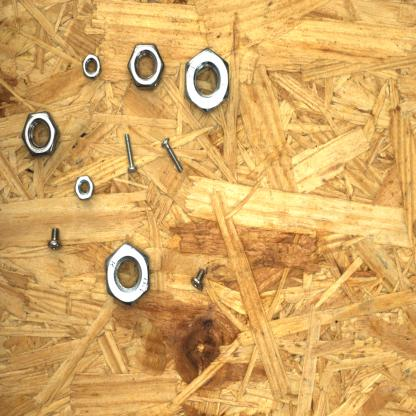screw: (160, 134, 187, 178), (122, 129, 140, 174), (189, 264, 211, 292), (45, 226, 66, 251)
